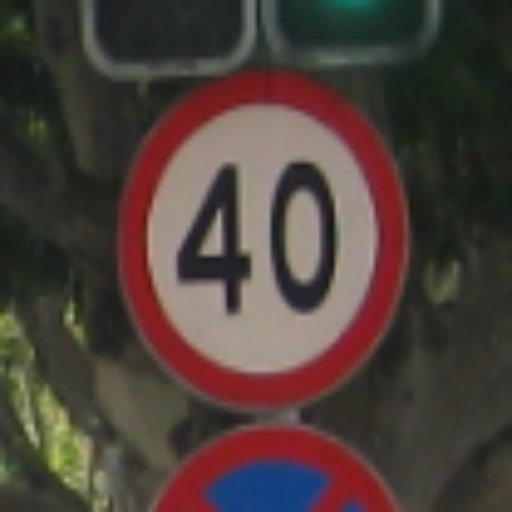Speed limit: (130, 99, 383, 388)
